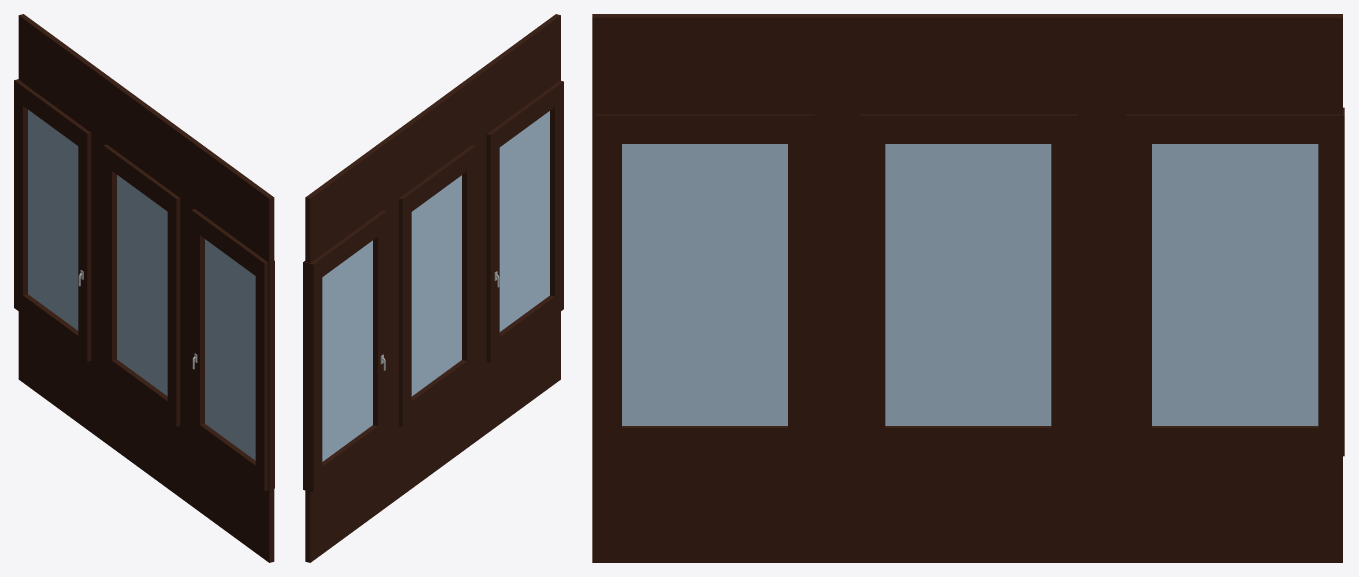
The model's file is FensterWand.fbx.
3 views of the same model, side by side, from view 1: azimuth 30°, elevation 25°; view 2: azimuth 150°, elevation 25°; view 3: azimuth 270°, elevation 25° (orthographic). The views are drawn at different scales.
Parts seen in each view (by area): view 1: Fenster; view 2: Fenster; view 3: Fenster.
Part boxes in pixels (left/top/right/bottom): Fenster: left=14, top=14, right=274, bottom=562; Fenster: left=303, top=14, right=563, bottom=562; Fenster: left=592, top=14, right=1344, bottom=562.
Bounding box in the file's own units: 14.78 × 367 × 459.
